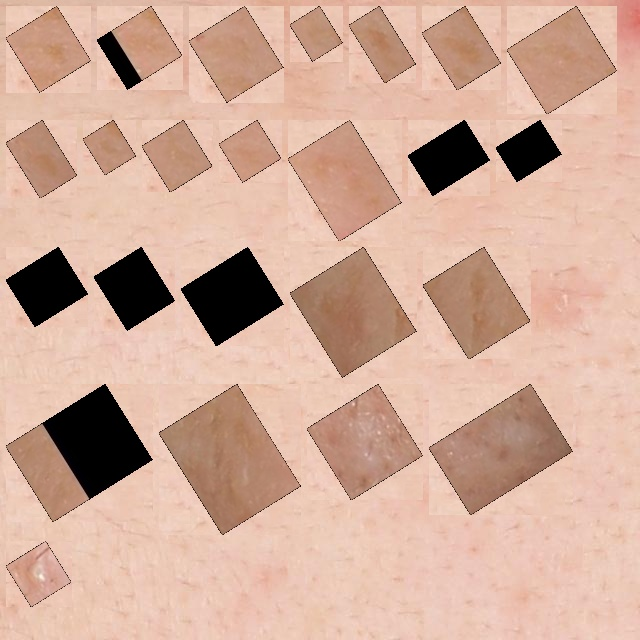hypertrophic_scar: (440, 395, 562, 504), (318, 395, 412, 489)
melasma: (170, 395, 290, 523), (17, 395, 141, 510), (301, 258, 405, 366), (299, 131, 390, 230), (434, 258, 519, 348), (518, 17, 606, 103), (192, 258, 272, 335), (200, 17, 272, 91), (17, 17, 80, 81), (108, 17, 171, 78), (105, 258, 164, 319), (433, 17, 490, 79), (17, 258, 77, 315), (419, 131, 479, 184), (17, 131, 66, 187), (360, 17, 405, 72), (153, 131, 201, 181), (507, 131, 550, 170), (230, 131, 270, 171), (94, 131, 125, 164), (301, 17, 331, 50)
pustule: (17, 552, 60, 596)
